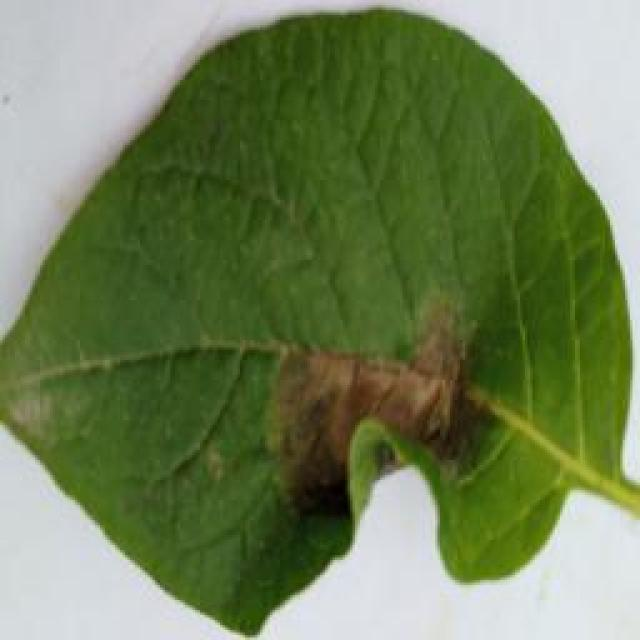Potato_Late_Blight: (5, 5, 640, 640)
